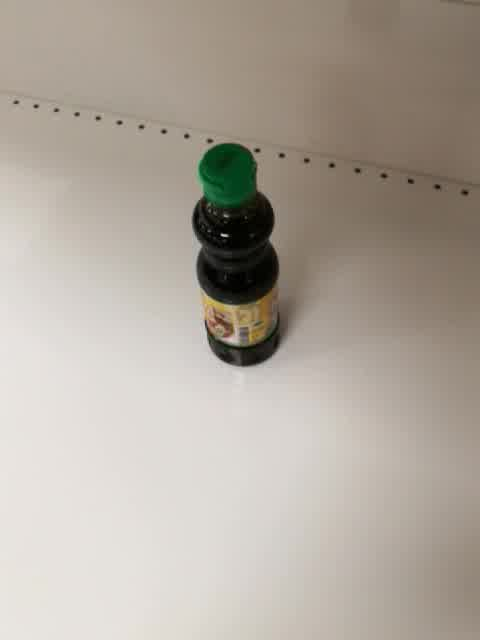cookingoil: (191, 141, 283, 371)
